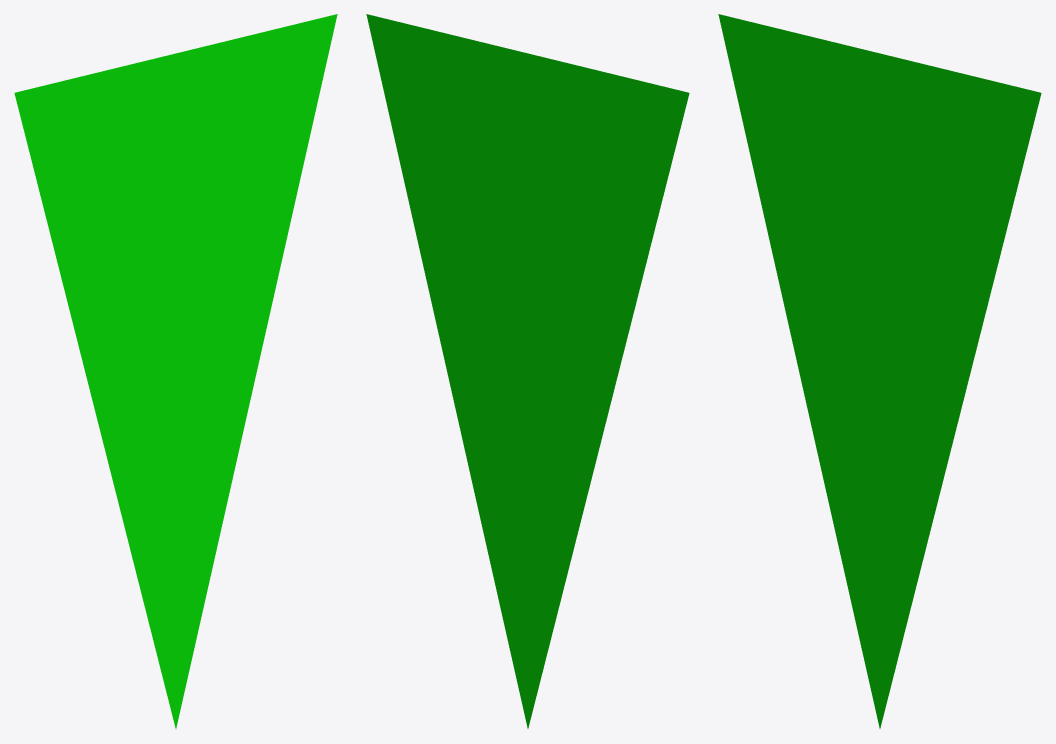
Rendered from morph_vertices_with_position_normal.dae.
3 renders of one model, left to right at view 1: azimuth 30°, elevation 25°; view 2: azimuth 150°, elevation 25°; view 3: azimuth 330°, elevation 25°, orthographic.
Visible parts, largest first — view 1: cube_node3; view 2: cube_node3; view 3: cube_node3.
Part boxes in pixels (x1,y1,x2,y2): cube_node3: [14, 14, 337, 728]; cube_node3: [366, 14, 689, 728]; cube_node3: [718, 14, 1041, 728].
Size of the model in its own units: 150 by 300 by 0.
